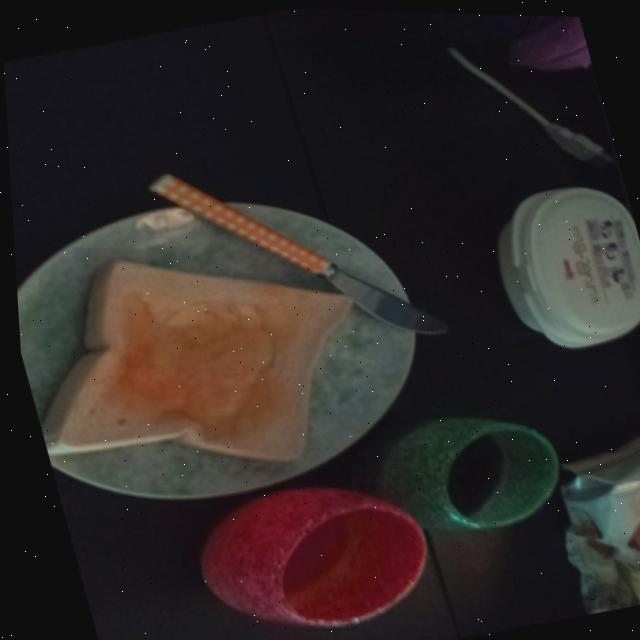面包点心: (9, 196, 406, 520)
